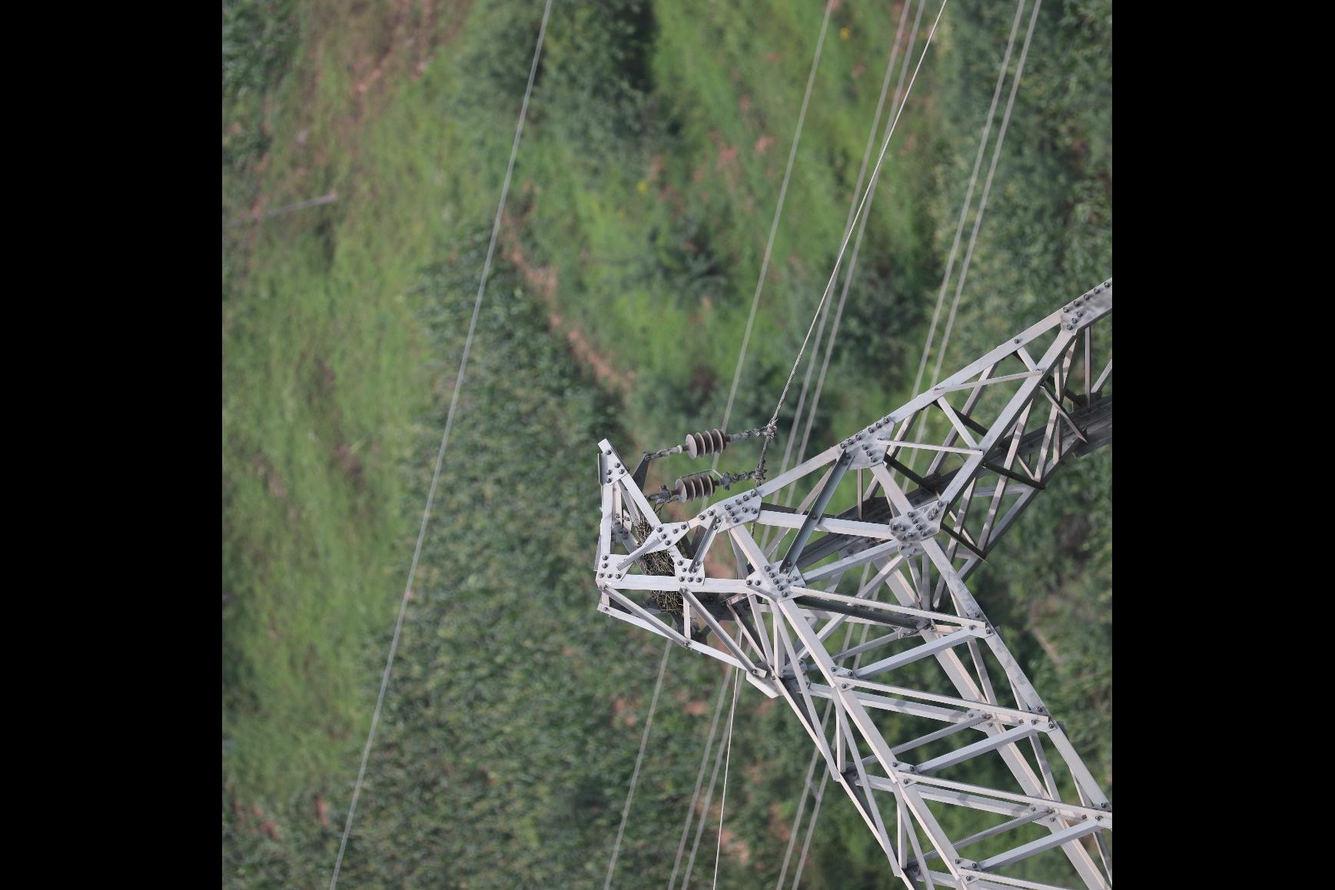nest: (631, 516, 686, 619)
